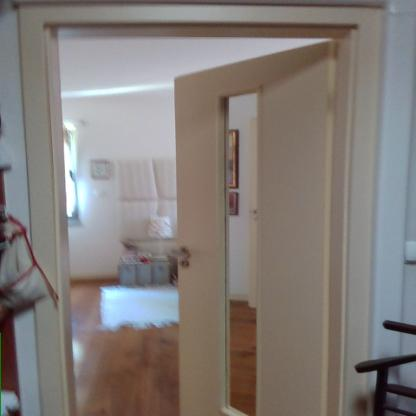open: (28, 8, 342, 416)
